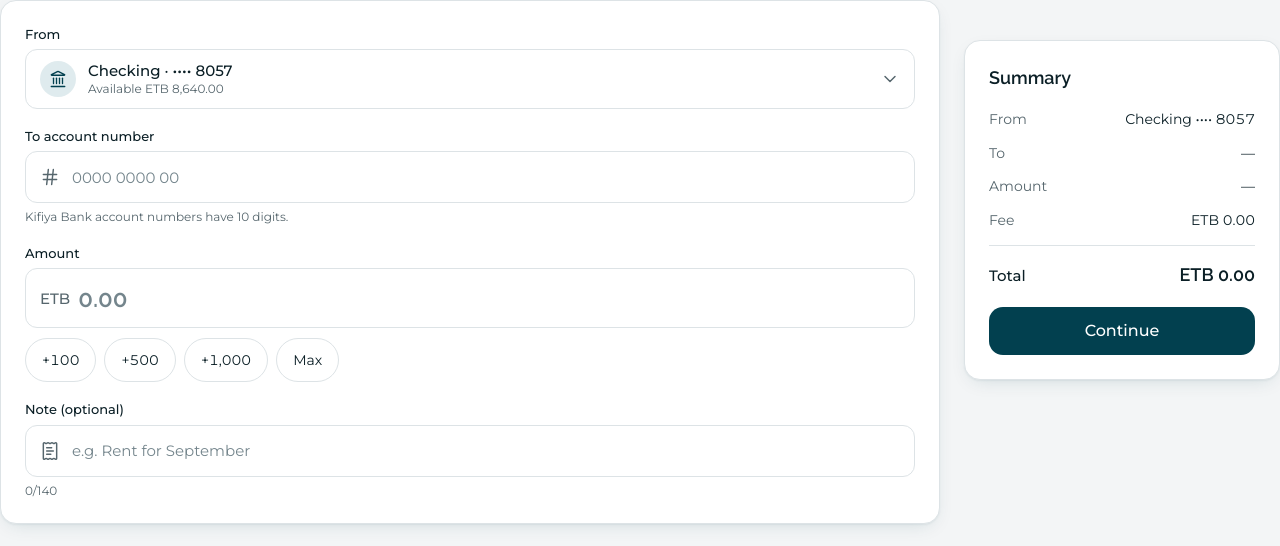
TransferForm › counts the note's characters
Type "Rent" into the field labelled "Note (optional)". click: (486, 450)
box: [72,440,900,461]
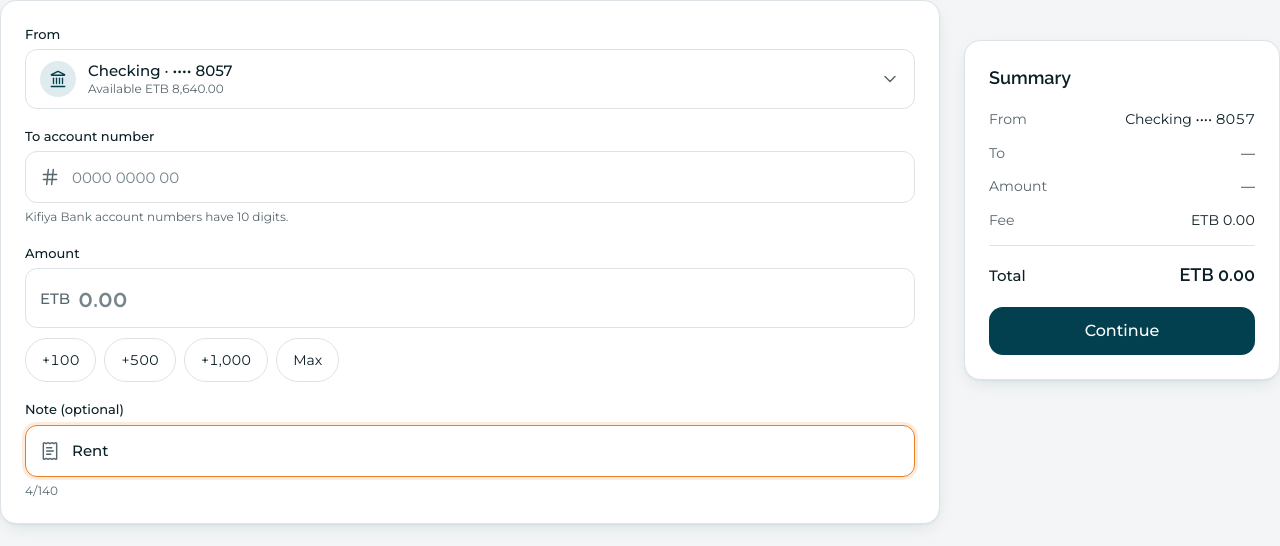
Expected: the text "4/140" is shown, [25,482,58,498]
